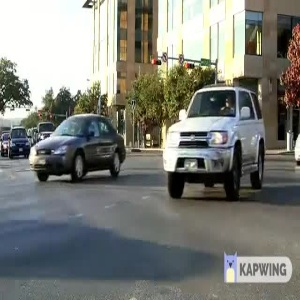car: (27, 113, 131, 190)
suv: (159, 83, 269, 203)
van: (4, 122, 34, 161)
